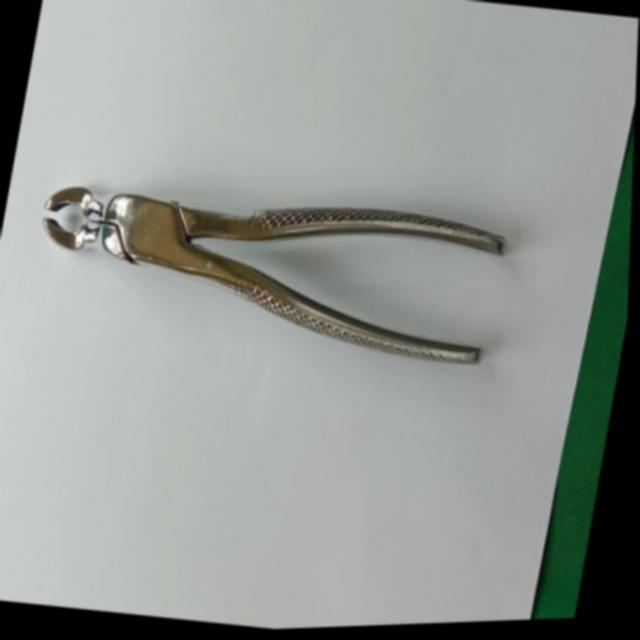BayonetForcep: (18, 133, 524, 408)
